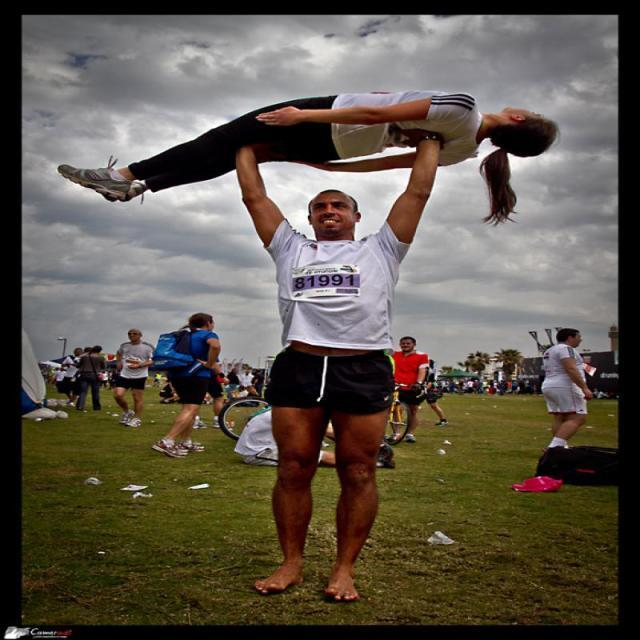dorsal: (283, 263, 368, 303)
